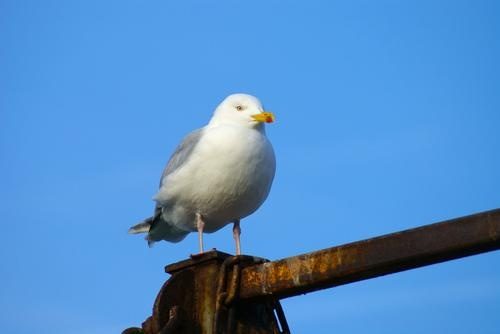bird: (132, 92, 280, 260)
